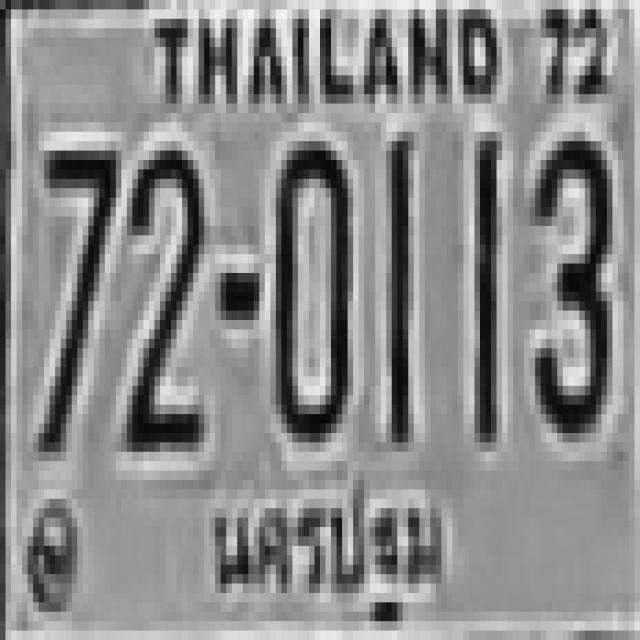0: (270, 132, 348, 433)
1: (469, 127, 497, 438), (383, 132, 411, 442)
2: (125, 142, 202, 442)
3: (530, 127, 607, 428)
7: (38, 141, 116, 452), (38, 146, 116, 372)
NakhonPathom: (203, 469, 452, 632)
